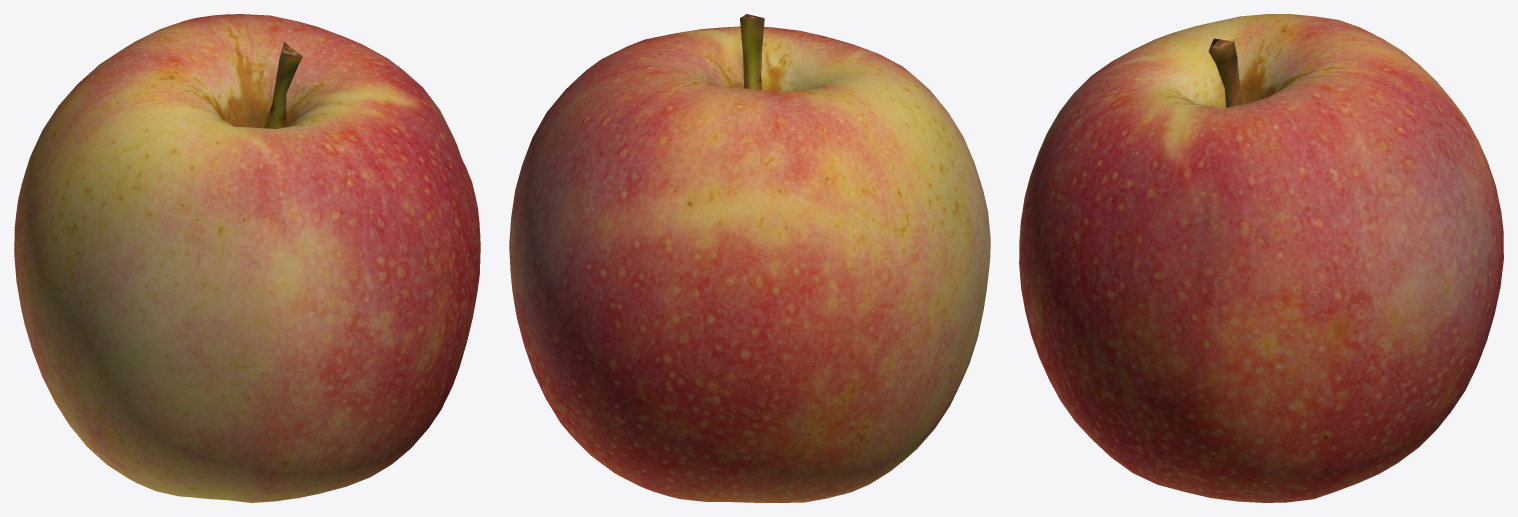
File: manzana.glb
3 views of the same model, side by side, from view 1: azimuth 30°, elevation 25°; view 2: azimuth 150°, elevation 25°; view 3: azimuth 270°, elevation 25° (orthographic).
Parts seen in each view (by area): view 1: Object_2.001; view 2: Object_2.001; view 3: Object_2.001.
Boxes of the visible parts, <box> form: Object_2.001: <box>14,14,480,502</box>; Object_2.001: <box>509,14,990,502</box>; Object_2.001: <box>1019,14,1503,502</box>.
Bounding box in the file's own units: 0.1564 × 0.1548 × 0.1591.
Materials: 1 (1 with a texture image).
